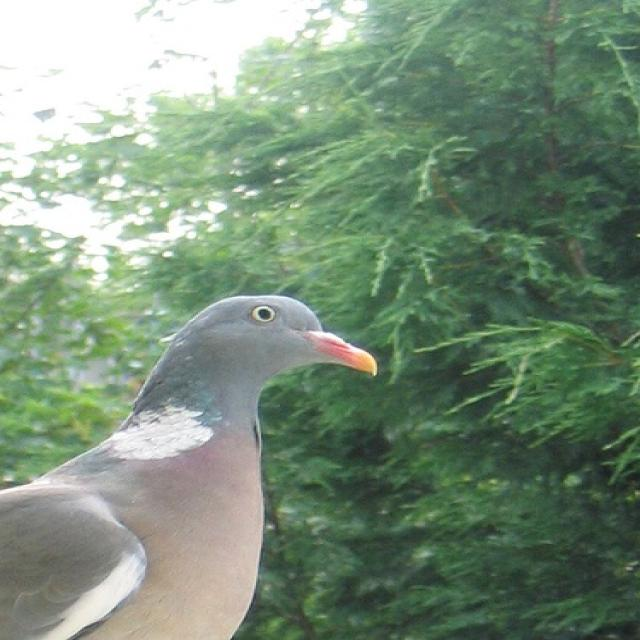bird: (0, 294, 386, 639)
